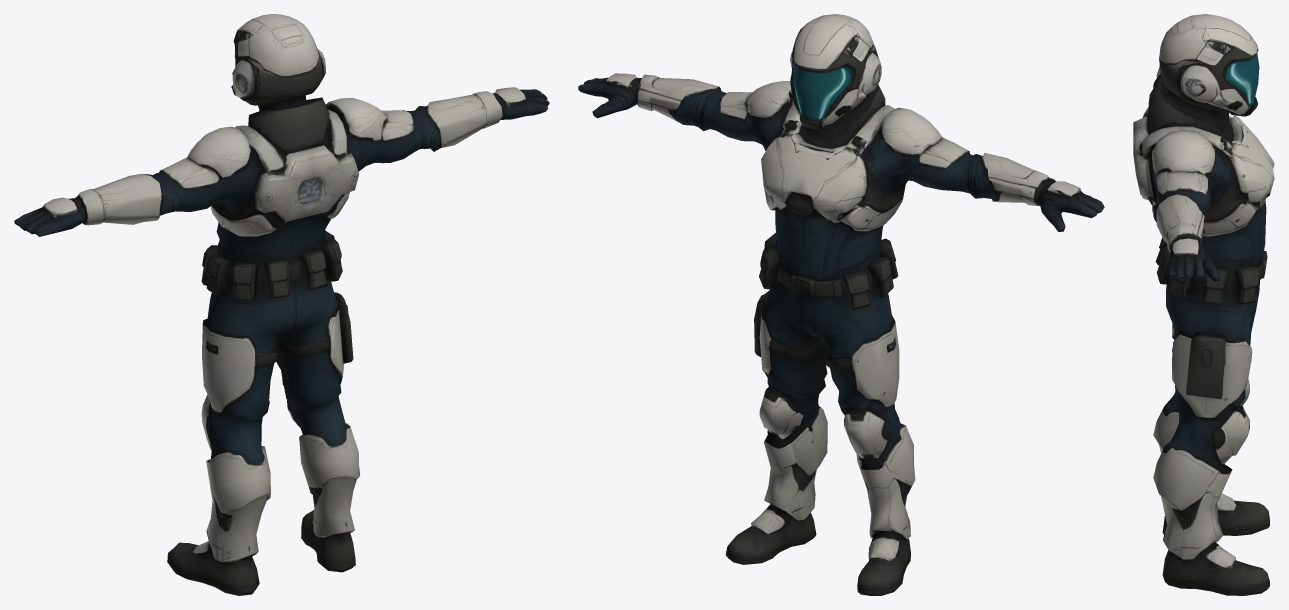
Rendered from arena-pilot-v1.glb.
3 renders of one model, left to right at view 1: azimuth 30°, elevation 25°; view 2: azimuth 150°, elevation 25°; view 3: azimuth 270°, elevation 25°, orthographic.
Visible parts, largest first — view 1: arena-pilot-v1; view 2: arena-pilot-v1; view 3: arena-pilot-v1.
Boxes of the visible parts, <box> form: arena-pilot-v1: <box>14,14,549,595</box>; arena-pilot-v1: <box>578,14,1104,595</box>; arena-pilot-v1: <box>1133,14,1274,595</box>.
Bounding box in the file's own units: 1.85 × 1.85 × 0.4381.
Materials: 1 (1 with a texture image).
